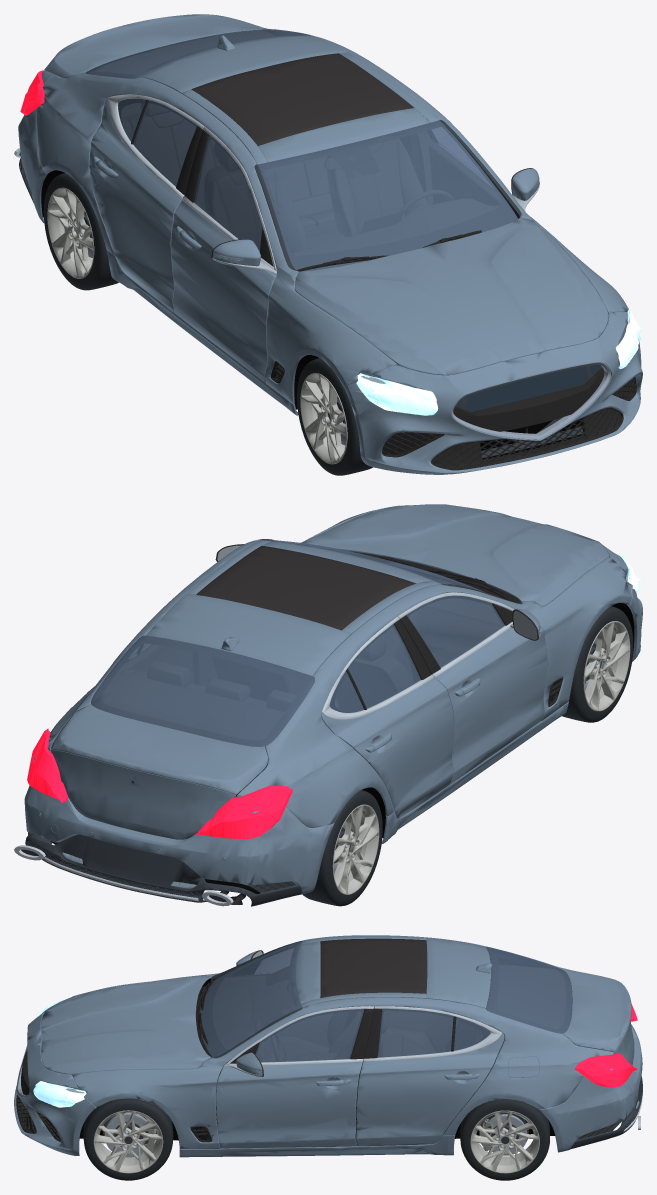
The model's file is genesis_g70_nieve-sprite-master-optimized.glb.
3 views of the same model, one above another, from view 1: azimuth 30°, elevation 25°; view 2: azimuth 150°, elevation 25°; view 3: azimuth 270°, elevation 25° (orthographic). The views are drawn at different scales.
Visible parts, largest first — view 1: Object_120, Object_210, Object_114, Object_12, Object_82, Object_292, Object_264, Object_160, Object_24, Object_4, Object_198; view 2: Object_120, Object_210, Object_114, Object_12, Object_82, Object_24, Object_292, Object_212, Object_160, Object_4; view 3: Object_120, Object_210, Object_114, Object_12, Object_82, Object_292, Object_24, Object_160, Object_212, Object_4, Object_264, Object_152 (+1 smaller).
Part boxes in pixels (left/top/right/bottom): Object_120: left=18, top=14, right=642, bottom=474; Object_210: left=85, top=29, right=517, bottom=271; Object_114: left=96, top=31, right=501, bottom=364; Object_12: left=43, top=30, right=636, bottom=475; Object_82: left=23, top=53, right=627, bottom=389; Object_292: left=47, top=187, right=347, bottom=464; Object_264: left=356, top=310, right=641, bottom=415; Object_160: left=14, top=94, right=539, bottom=429; Object_24: left=19, top=31, right=592, bottom=457; Object_4: left=21, top=99, right=627, bottom=459; Object_198: left=451, top=362, right=610, bottom=439; Object_120: left=24, top=504, right=642, bottom=895; Object_210: left=91, top=539, right=504, bottom=746; Object_114: left=101, top=578, right=502, bottom=791; Object_12: left=91, top=540, right=633, bottom=906; Object_82: left=30, top=544, right=630, bottom=893; Object_24: left=21, top=539, right=615, bottom=906; Object_292: left=332, top=621, right=630, bottom=894; Object_212: left=27, top=728, right=292, bottom=839; Object_160: left=14, top=545, right=608, bottom=906; Object_4: left=50, top=596, right=634, bottom=894; Object_120: left=14, top=935, right=642, bottom=1157; Object_210: left=200, top=941, right=572, bottom=1062; Object_114: left=213, top=958, right=565, bottom=1061; Object_12: left=16, top=942, right=571, bottom=1180; Object_82: left=46, top=938, right=617, bottom=1138; Object_292: left=93, top=1110, right=539, bottom=1173; Object_24: left=103, top=941, right=642, bottom=1149; Object_160: left=118, top=951, right=642, bottom=1148; Object_212: left=574, top=1003, right=637, bottom=1087; Object_4: left=79, top=947, right=574, bottom=1145; Object_264: left=33, top=994, right=86, bottom=1107; Object_152: left=104, top=1112, right=527, bottom=1157.
Size of the model in its own units: 5.4 by 3.57 by 12.12.
Materials: 16 (16 with a texture image).
